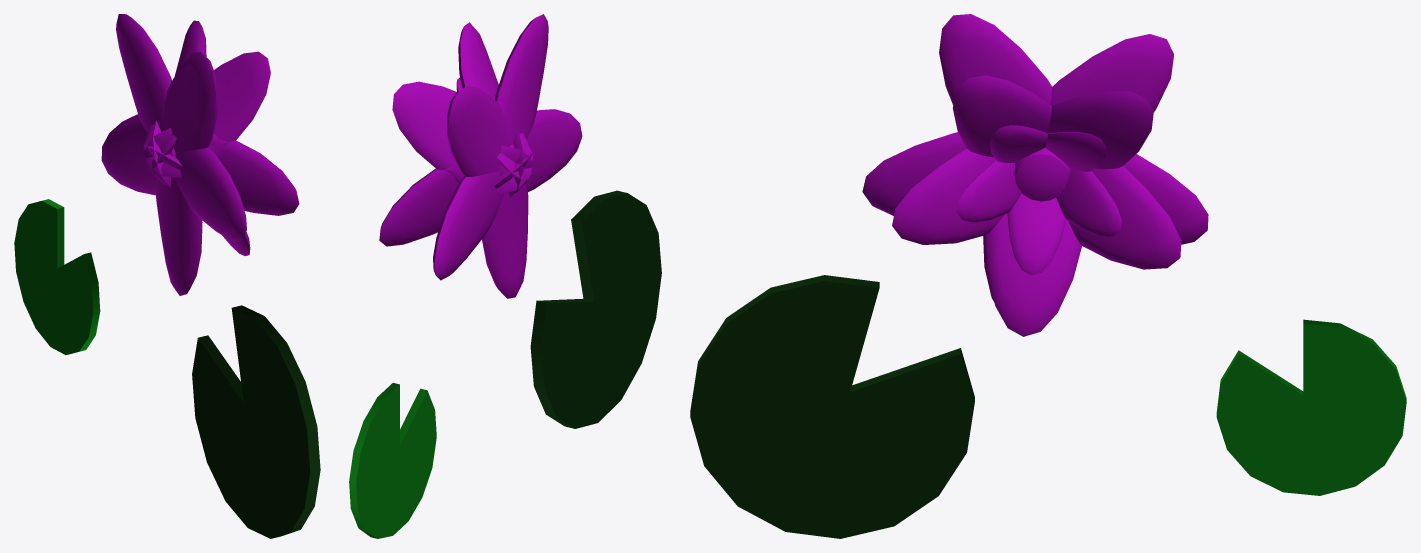
File: leafs.fbx
The picture shows the model from 3 angles, left to right: view 1: azimuth 30°, elevation 25°; view 2: azimuth 150°, elevation 25°; view 3: azimuth 270°, elevation 25°; orthographic projection. The views are drawn at different scales.
Parts seen in each view (by area): view 1: Pond; view 2: Pond; view 3: Pond.
Part boxes in pixels (x1,y1,x2,y2): Pond: [14, 14, 320, 538]; Pond: [349, 14, 661, 538]; Pond: [690, 14, 1406, 538].
Bounding box in the file's own units: 16.21 × 75.44 × 93.64.
